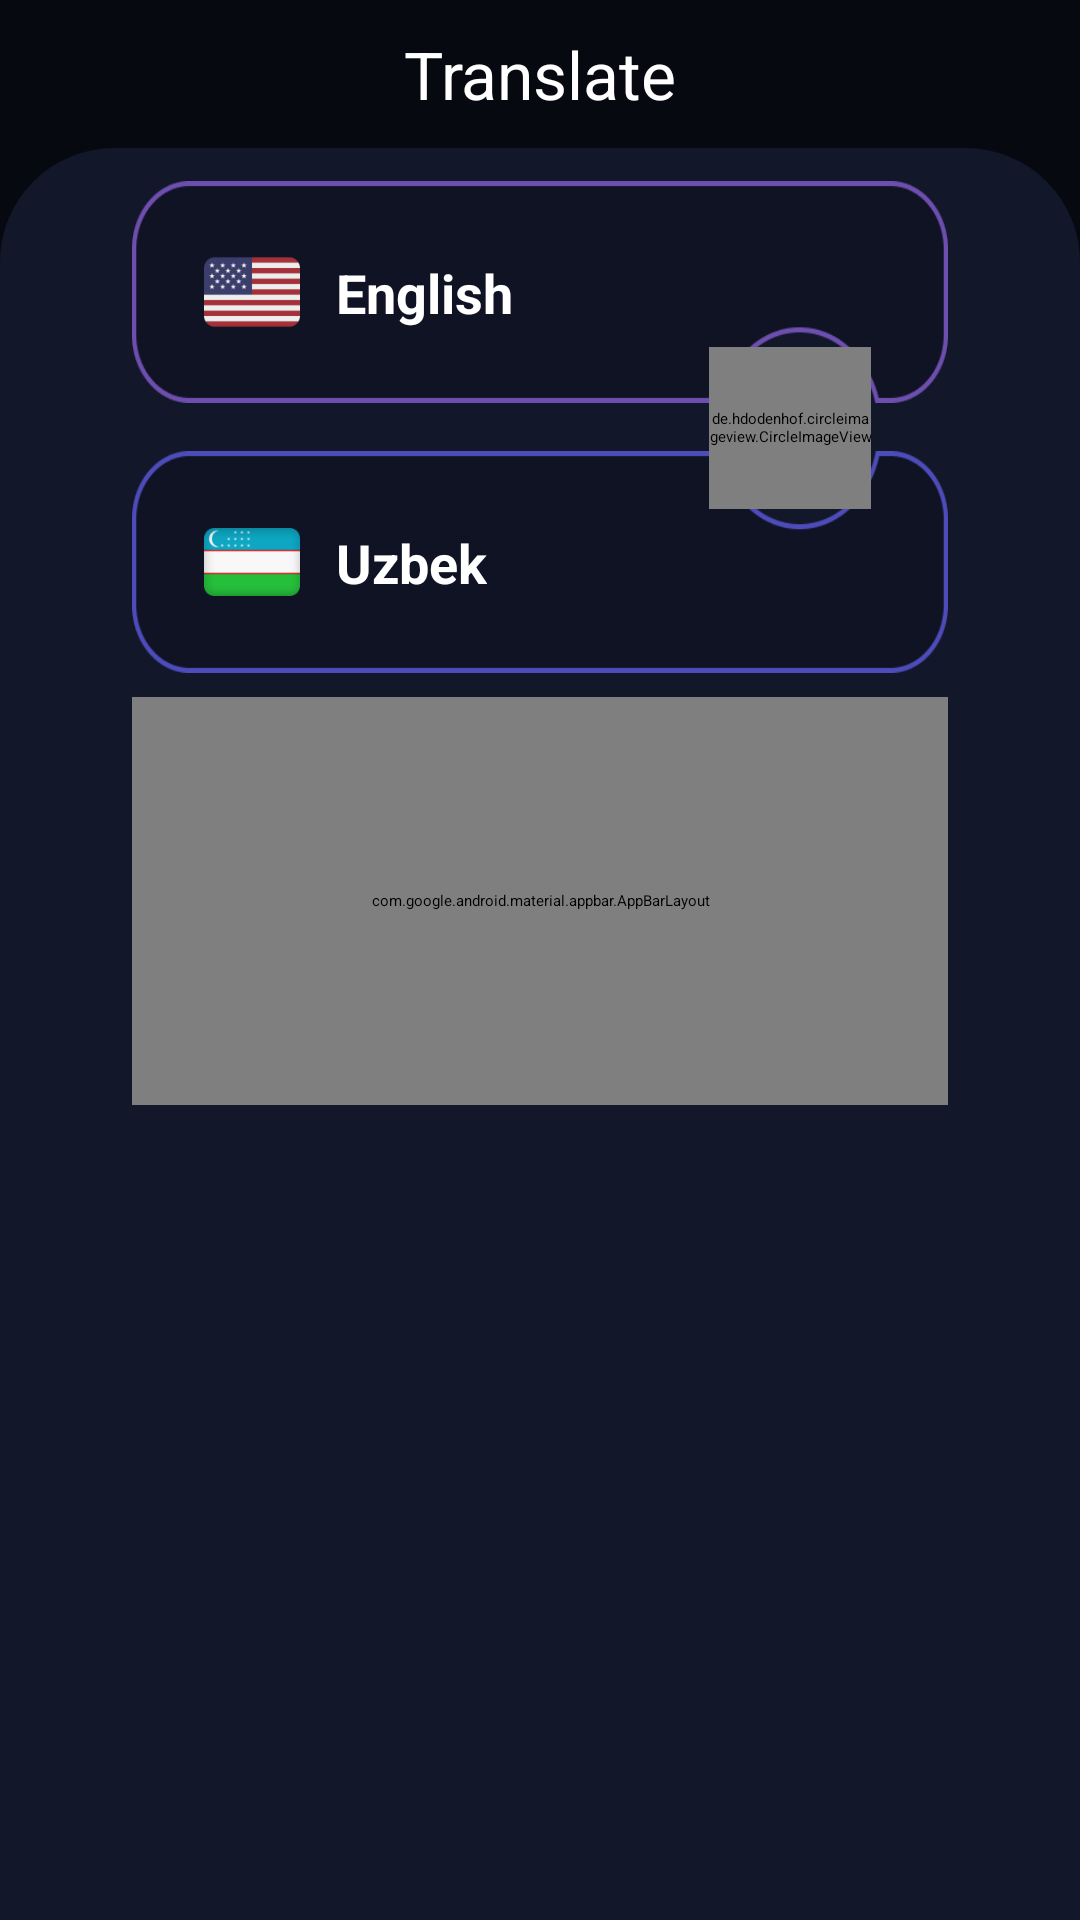

Named icons in this screenshot (1080px×1920px) and their centers, [x,y]:
uzb: [252,562]
